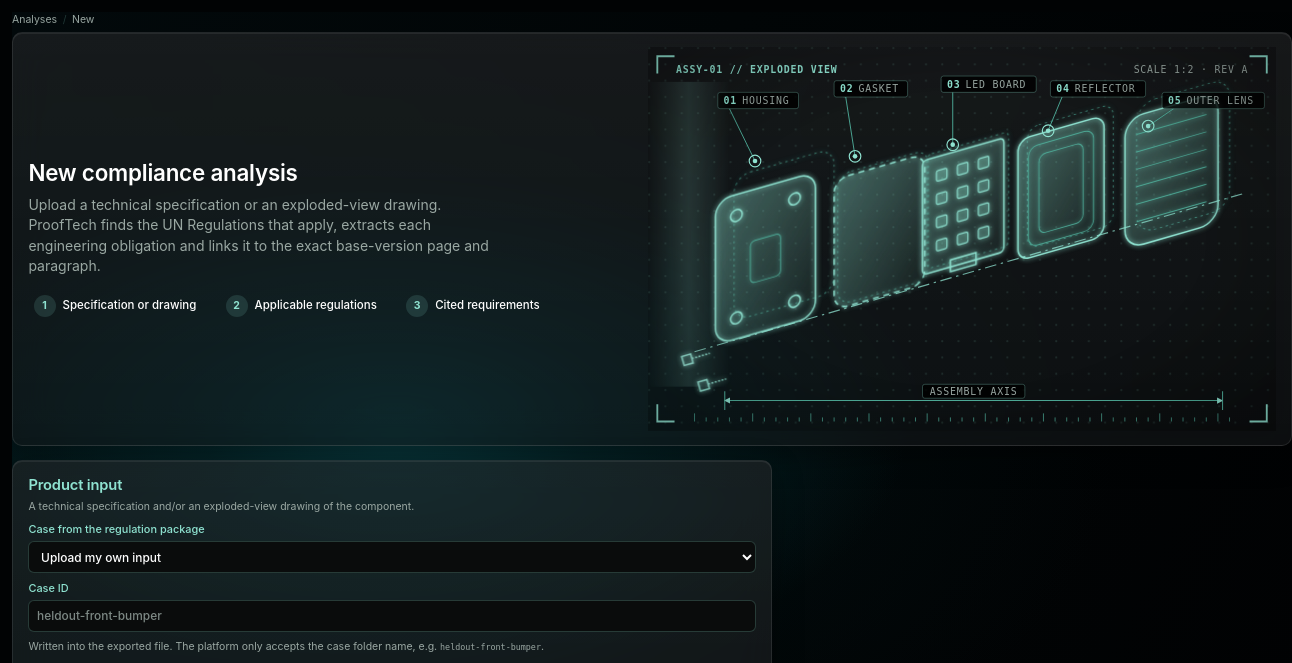
Scenario: new analysis input screen › asks for the case ID only when uploading own files, suggesting the held-out case
Select "Held-out: Heldout Front Bumper (spec.md)" in the dropdown: (392, 557) left=28, top=541, right=756, bottom=573
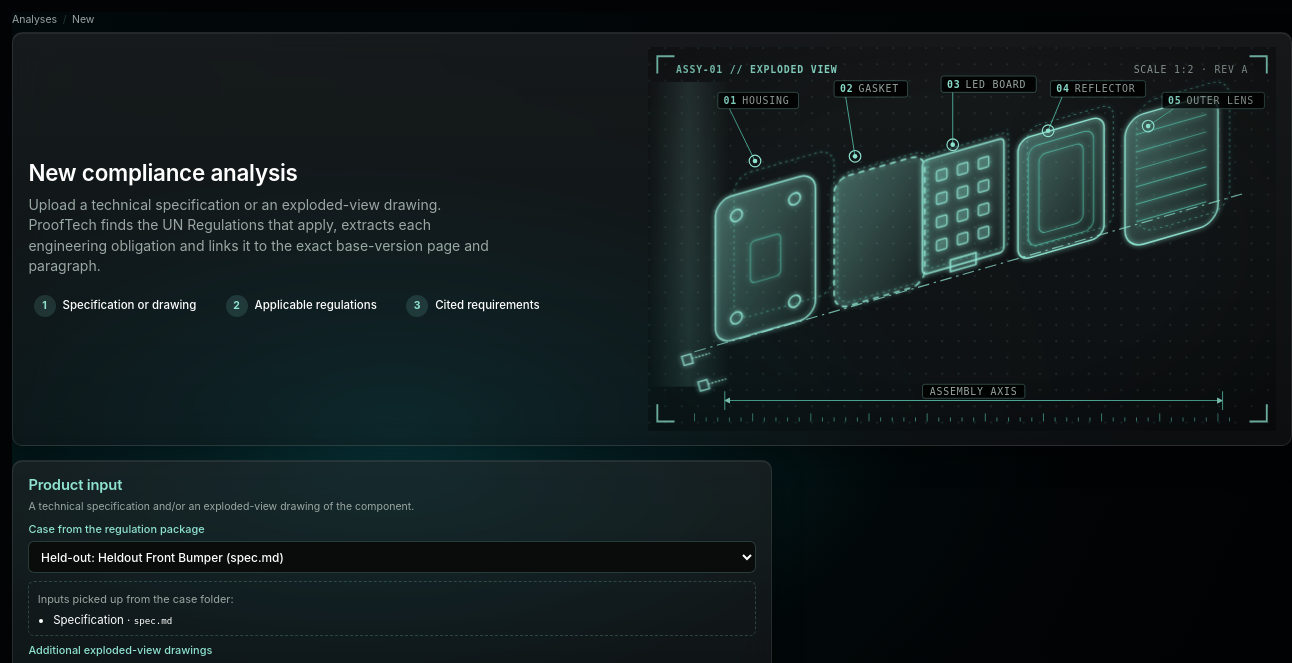
Check: the label labelled "Case ID" is gone
